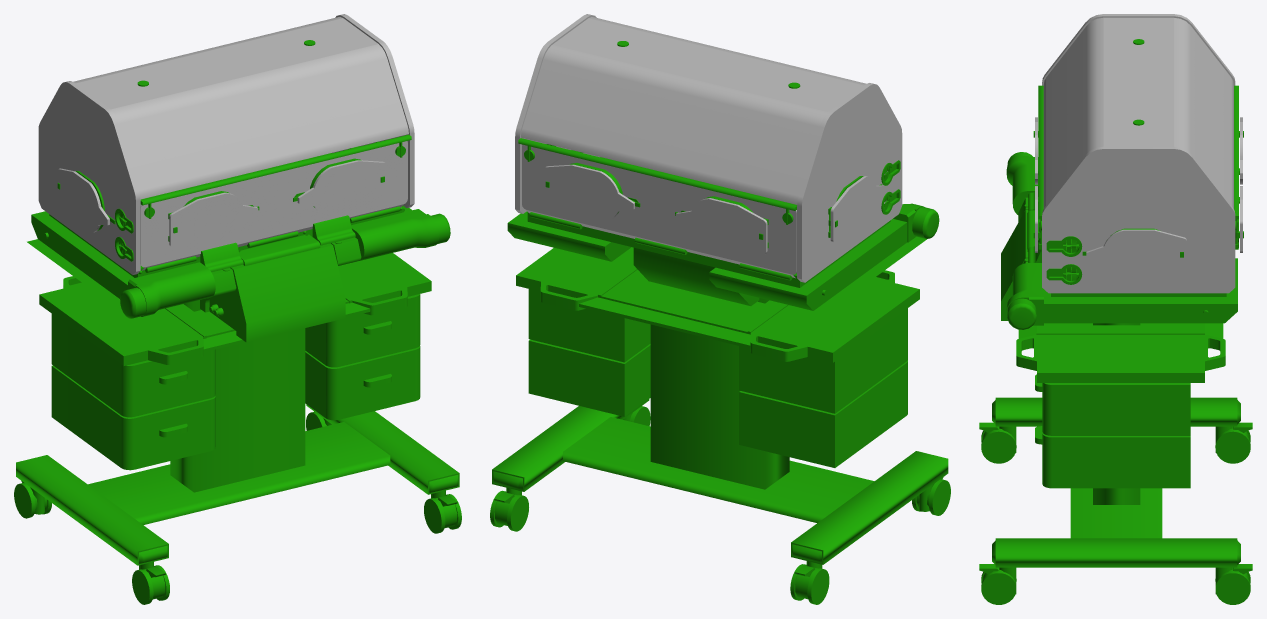
File: SM_Incubator_01a.FBX
The picture shows the model from 3 angles, left to right: view 1: azimuth 30°, elevation 25°; view 2: azimuth 150°, elevation 25°; view 3: azimuth 270°, elevation 25°; orthographic projection. The views are drawn at different scales.
Parts seen in each view (by area): view 1: SM_Incubator_01a_LOD0; view 2: SM_Incubator_01a_LOD0; view 3: SM_Incubator_01a_LOD0.
Boxes of the visible parts, box(x1,y1,x2,y2) form: SM_Incubator_01a_LOD0: box(14, 14, 461, 604); SM_Incubator_01a_LOD0: box(490, 14, 950, 604); SM_Incubator_01a_LOD0: box(979, 14, 1252, 604).
Size of what is drawn, in the model's own units: 107 by 143 by 79.08.
